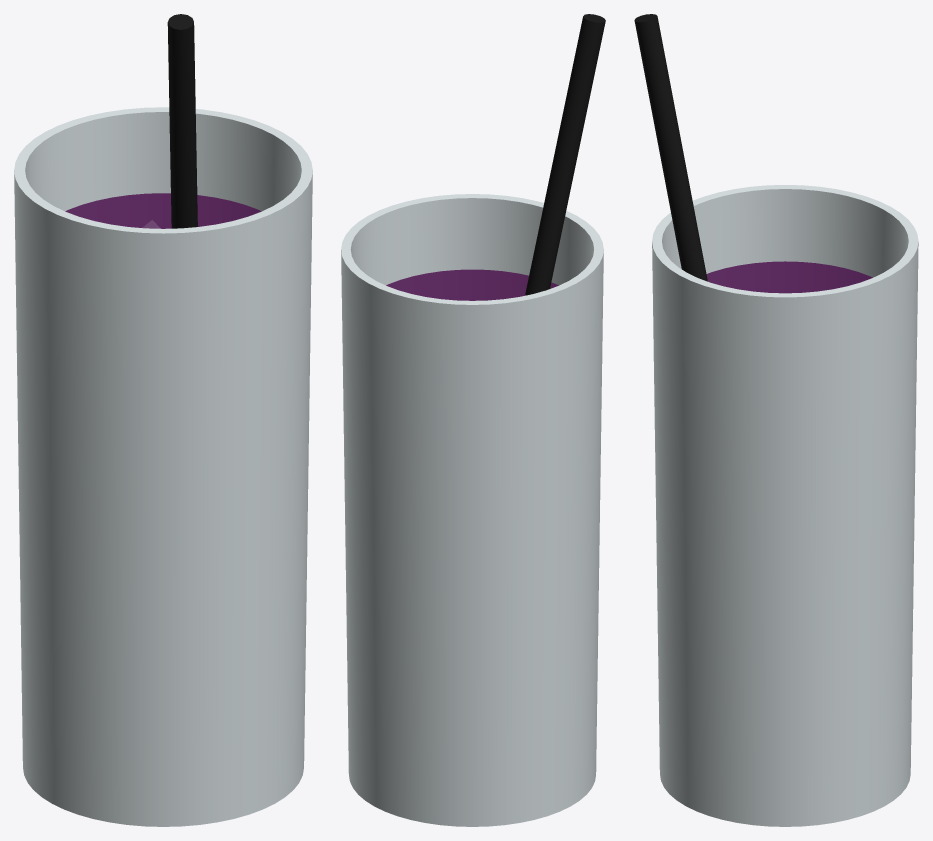
File: long_drink-roxo.glb
3 renders of one model, left to right at view 1: azimuth 30°, elevation 25°; view 2: azimuth 150°, elevation 25°; view 3: azimuth 270°, elevation 25°, orthographic. The views are drawn at different scales.
Visible parts, largest first — view 1: long_drink-roxo; view 2: long_drink-roxo; view 3: long_drink-roxo.
Boxes of the visible parts, x1,y1,x2,y2 form: long_drink-roxo: [14, 14, 312, 826]; long_drink-roxo: [341, 14, 605, 826]; long_drink-roxo: [634, 14, 918, 826].
Size of the model in its own units: 0.068 by 0.206 by 0.0725.
